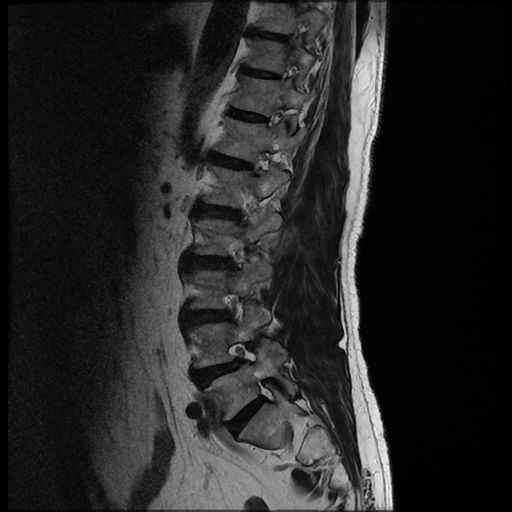LFS0: (220, 336, 260, 379), (212, 288, 248, 332)
